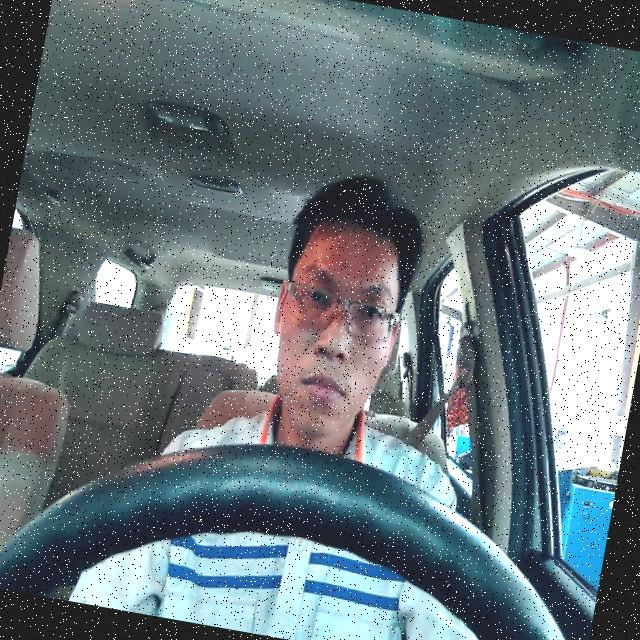focused: (253, 212, 416, 446)
